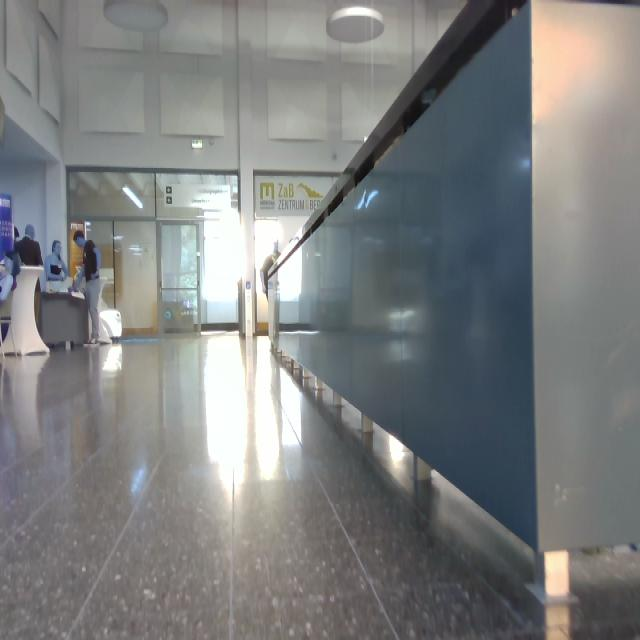chair: (1, 291, 17, 355)
desk: (40, 294, 90, 344)
door: (115, 223, 159, 335), (162, 224, 201, 334), (256, 221, 284, 334)
light bulb: (327, 8, 385, 44), (105, 1, 169, 32), (124, 186, 144, 209)
person: (71, 231, 102, 345), (16, 226, 44, 266), (45, 241, 70, 283), (1, 251, 21, 302)
staircase: (270, 1, 640, 636)
table: (14, 266, 50, 355), (5, 334, 14, 354)
tiled floor: (1, 334, 640, 640)
